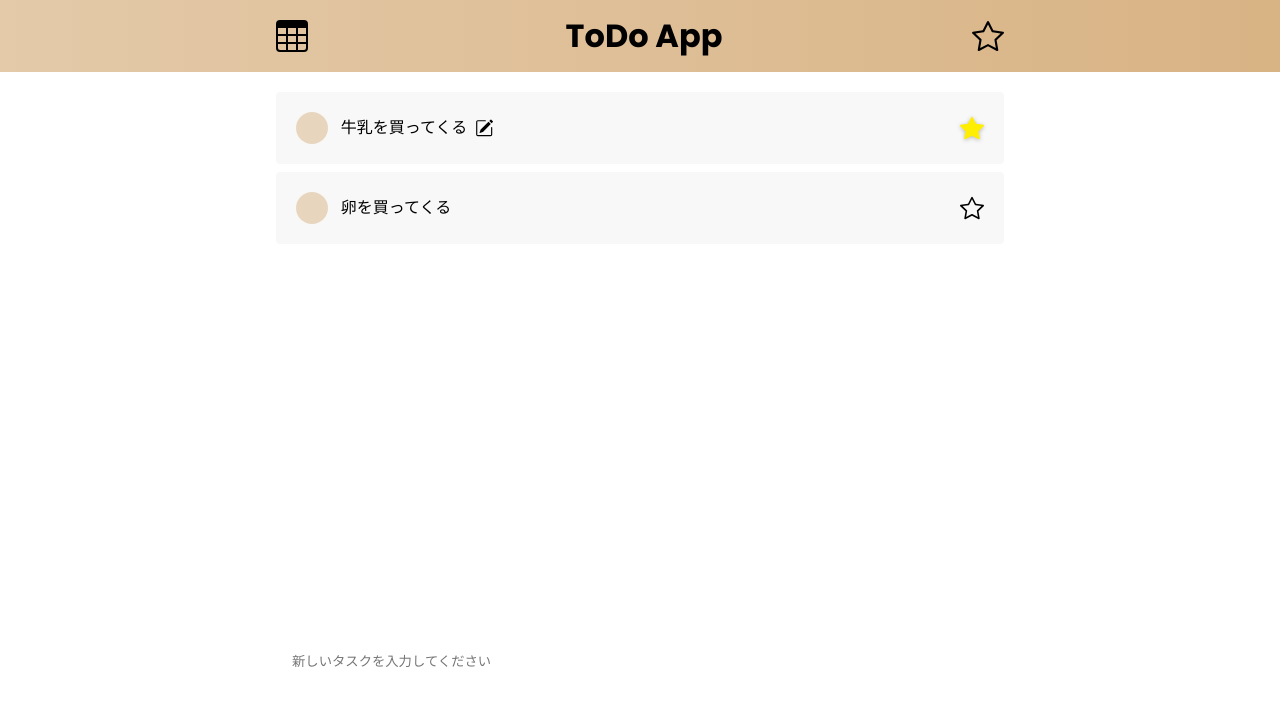
Scenario: HomePage › お気に入りタスクでフィルターした時にはお気に入りタスクだけが表示される
Expected: the number of elements with test id "task-item" is 2, [276,92,1004,164]; [276,172,1004,244]
Click the element with test id "toggle-button" at (988, 36), box [972,20,1004,52]
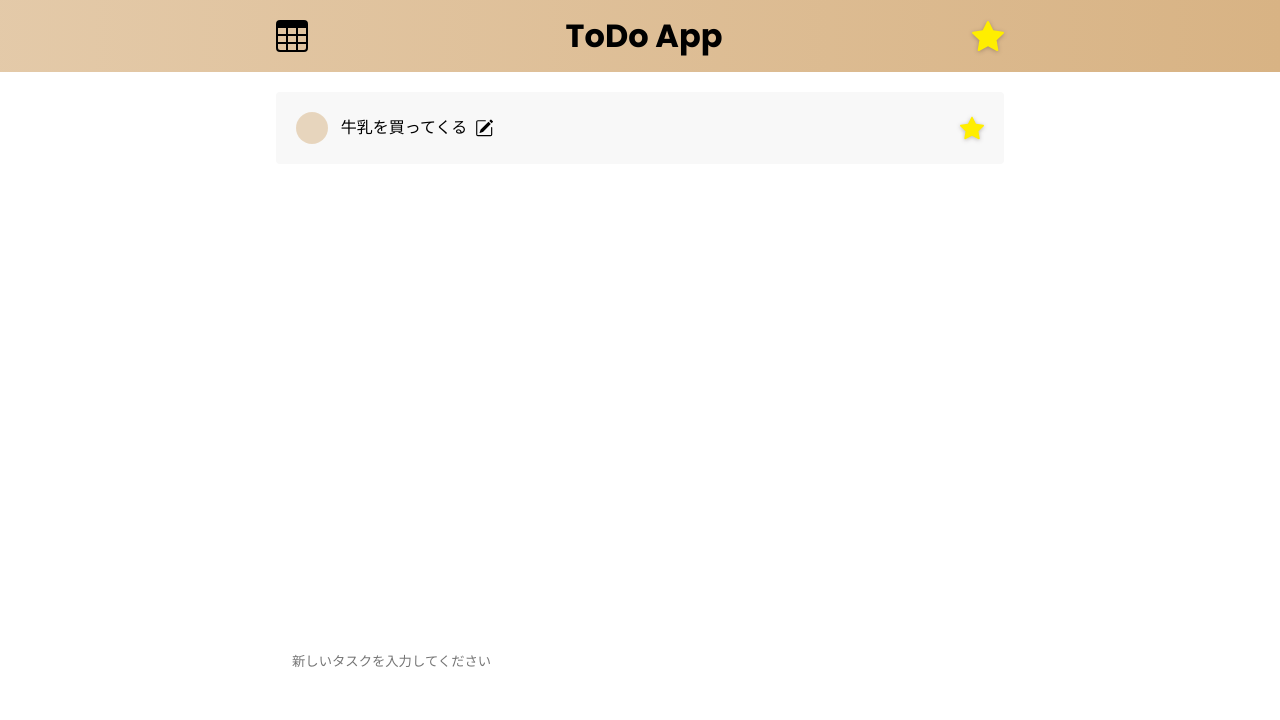
Expected: the number of elements with test id "task-item" is 1, [276,92,1004,164]
